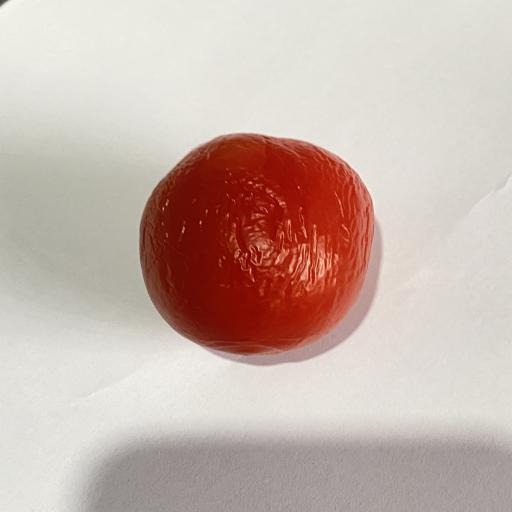spoiled: (140, 134, 374, 354)
